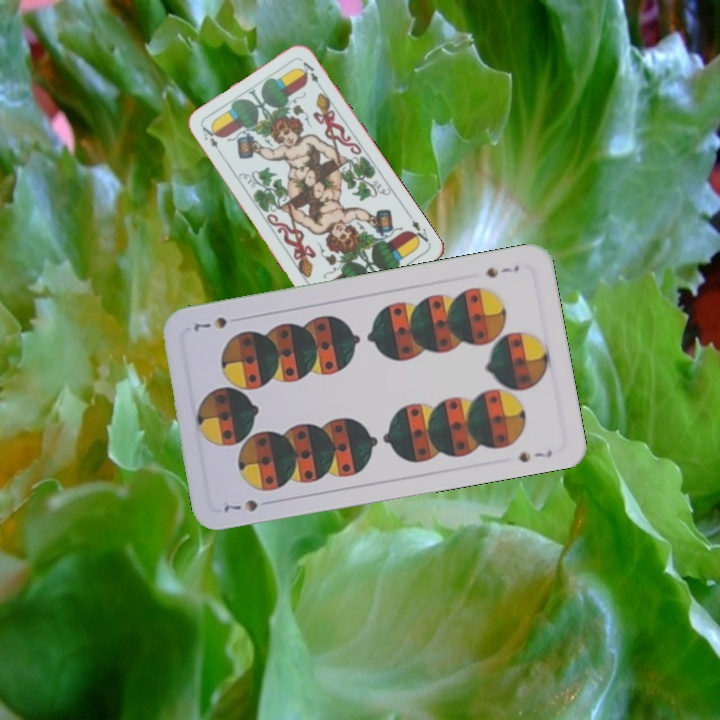EA: (404, 210, 432, 247), (198, 122, 221, 151)
S7: (219, 495, 261, 515), (481, 261, 522, 280)
